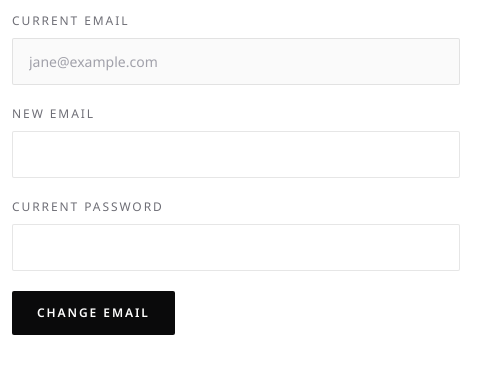
Test: ChangeEmailForm › shows a validation error instead of submitting for an invalid new email
Step 1. Type "not-an-email" into the field labelled "New email" → point(236, 154), box [12,131,460,178]
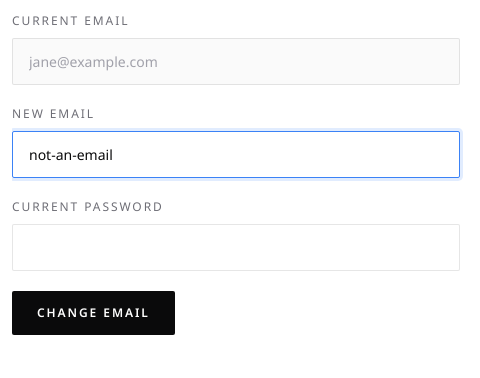
Step 2. Type "correct-password" into the password field labelled "Current password" → point(236, 248), box [12,224,460,271]
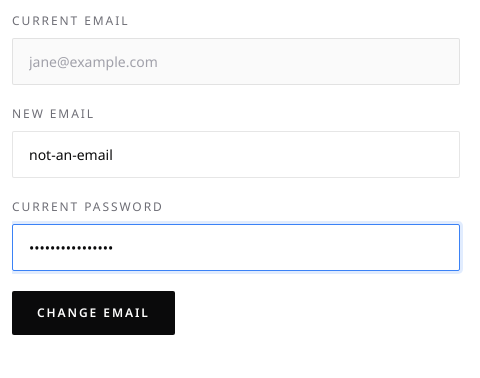
Step 3. Click the button "Change email" → point(93, 313), box [12,291,175,335]
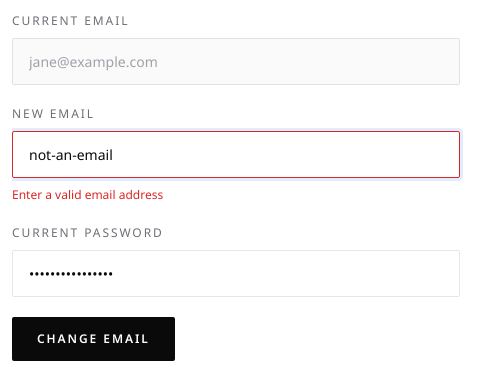
Check: the text "Enter a valid email address" is shown, box [12,186,163,203]
